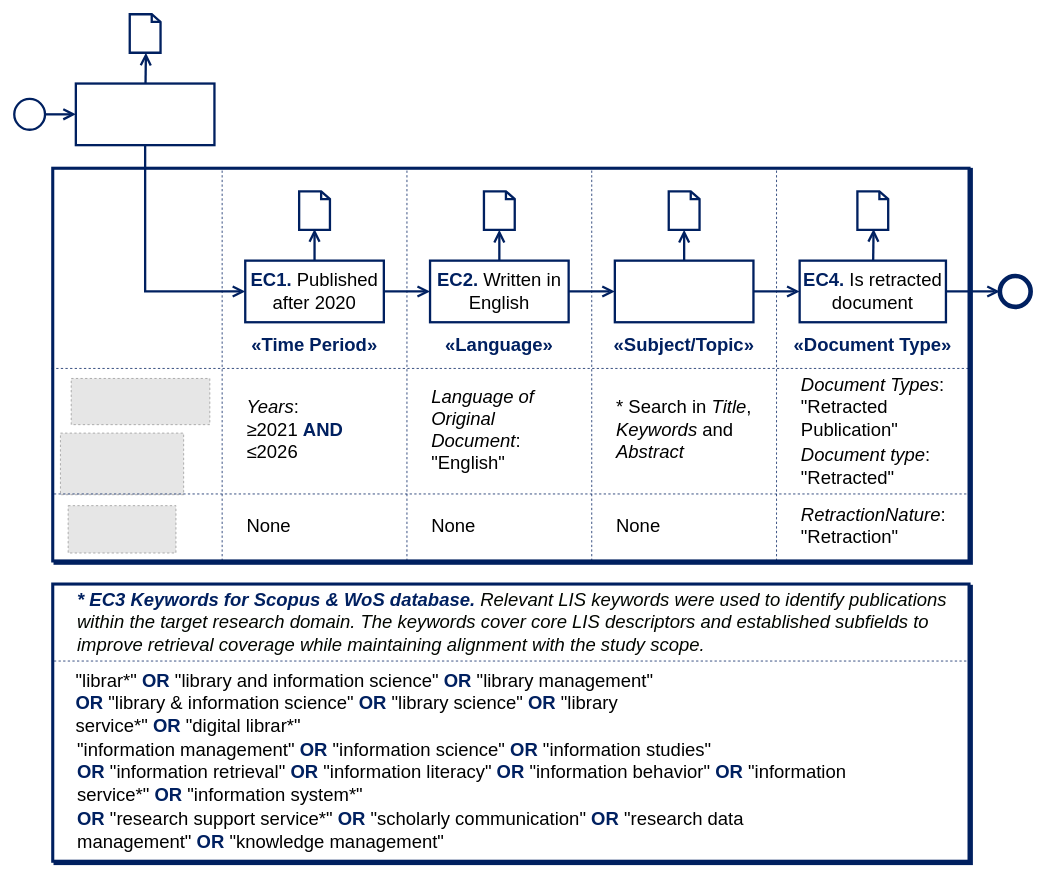
This 1046x879 diagram has some shape labels left out. Grey dashed boxes stand in for pictures. The shapes that lost their labels are listed below. From the top down, each one's centre as x and y in pixels, then its label:
the point at 144,114: Query search with string
the point at 683,291: EC3. Included LIS studies
